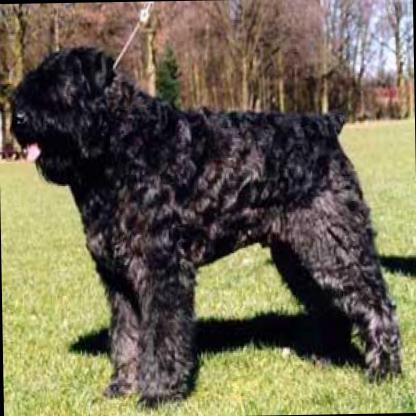Bouvier_des_Flandres: (0, 33, 408, 411)
